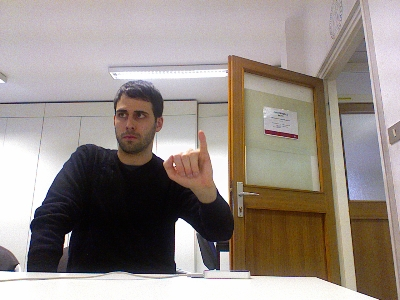小指: (162, 128, 213, 190)
